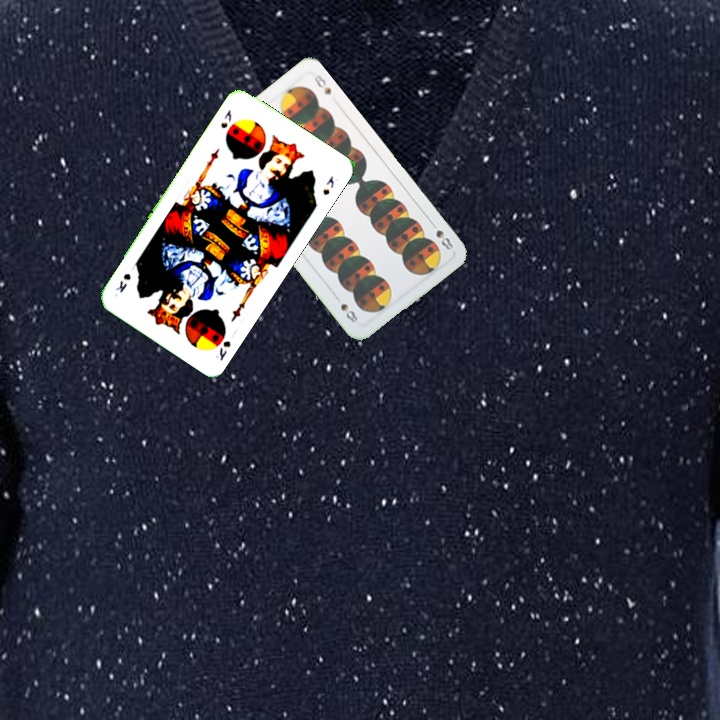S8: (426, 217, 456, 253)
SK: (211, 337, 234, 363), (216, 105, 234, 131)
